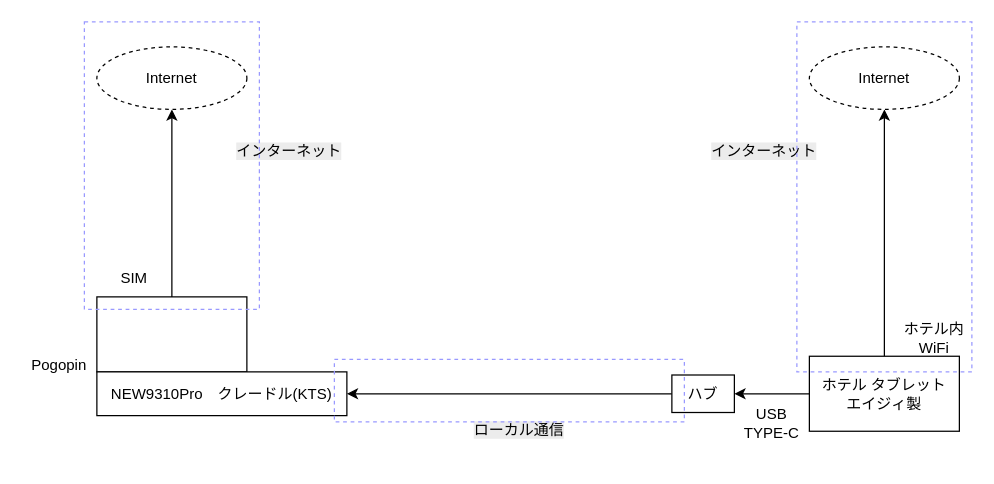
Image size: 994x484. Some labels were removed from this diagram. The box of each missing label's shape, as (x1, y1, x2, y2) in pixels:
NEW9310Pro: (96, 296, 247, 372)
有線LAN: (333, 358, 684, 422)
